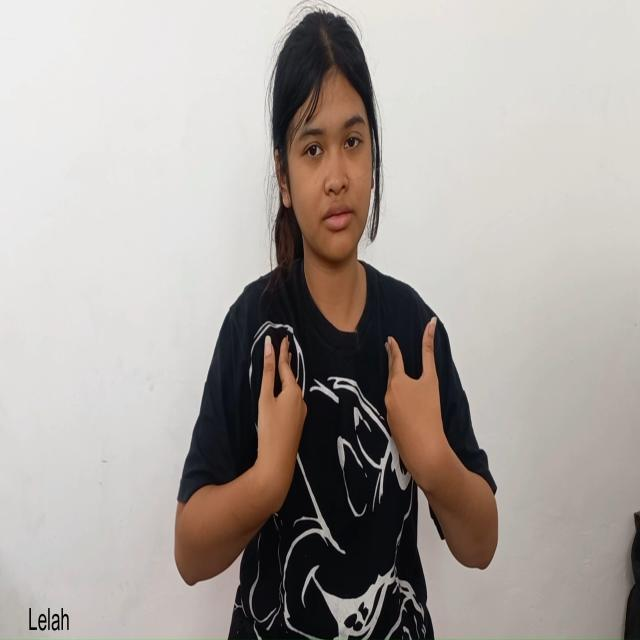Lelah -BISINDO-: (173, 272, 517, 592)
